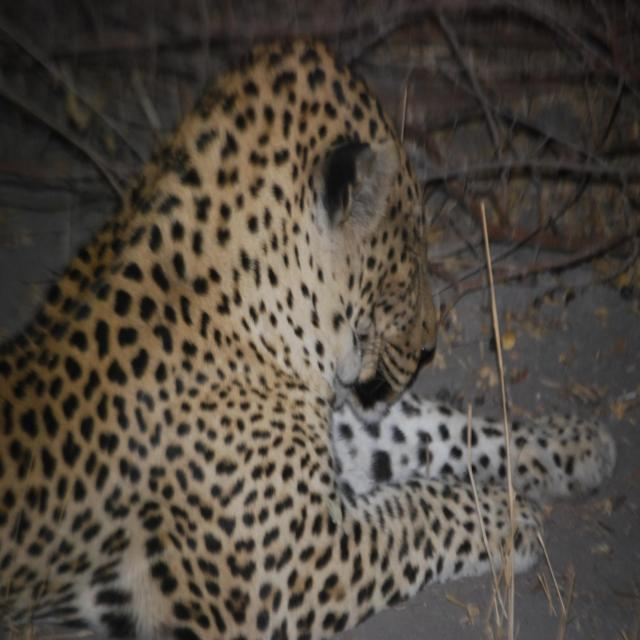Leopard: (4, 18, 625, 640)
